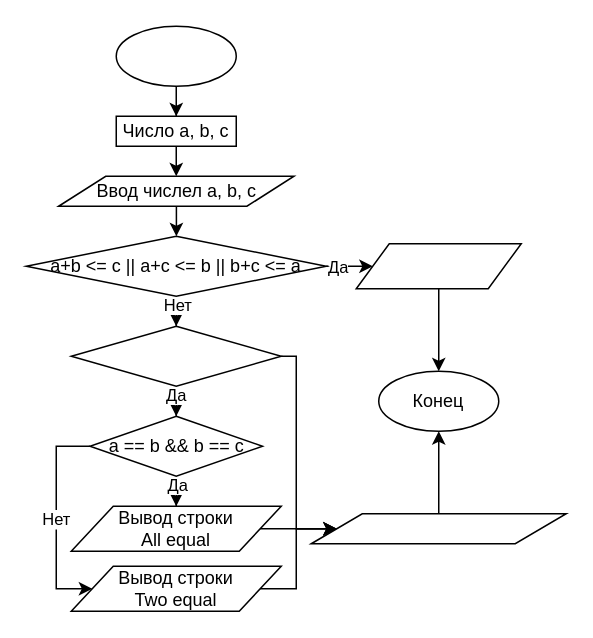
Some shapes in this 593 by 638 pixel diagram are drawn without their labels. Each missing label, with the centre of its shape:
"a == b || b == c || a == c" belongs at [175,355].
"Вывод строки Invalid" belongs at [438,265].
"Вывод числа a + b + c" belongs at [438,528].
"Начало" belongs at [175,55].
